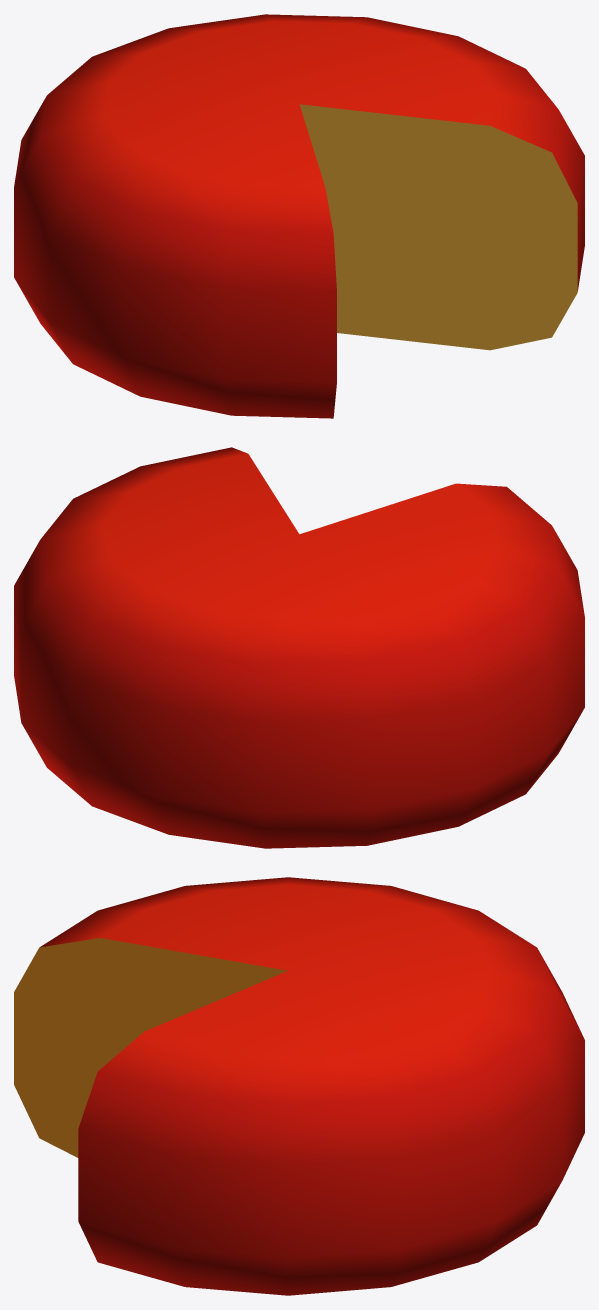
File: CheeseWheel_Cutted.fbx
The picture shows the model from 3 angles, top to bottom: view 1: azimuth 30°, elevation 25°; view 2: azimuth 150°, elevation 25°; view 3: azimuth 270°, elevation 25°; orthographic projection. The views are drawn at different scales.
Visible parts, largest first — view 1: CheeseWheel_Cutted; view 2: CheeseWheel_Cutted; view 3: CheeseWheel_Cutted.
Boxes of the visible parts, box(x1,y1,x2,y2) form: CheeseWheel_Cutted: box(14, 14, 584, 418); CheeseWheel_Cutted: box(14, 447, 584, 848); CheeseWheel_Cutted: box(14, 877, 584, 1295).
Size of the model in its own units: 54.92 by 23.62 by 52.83.
